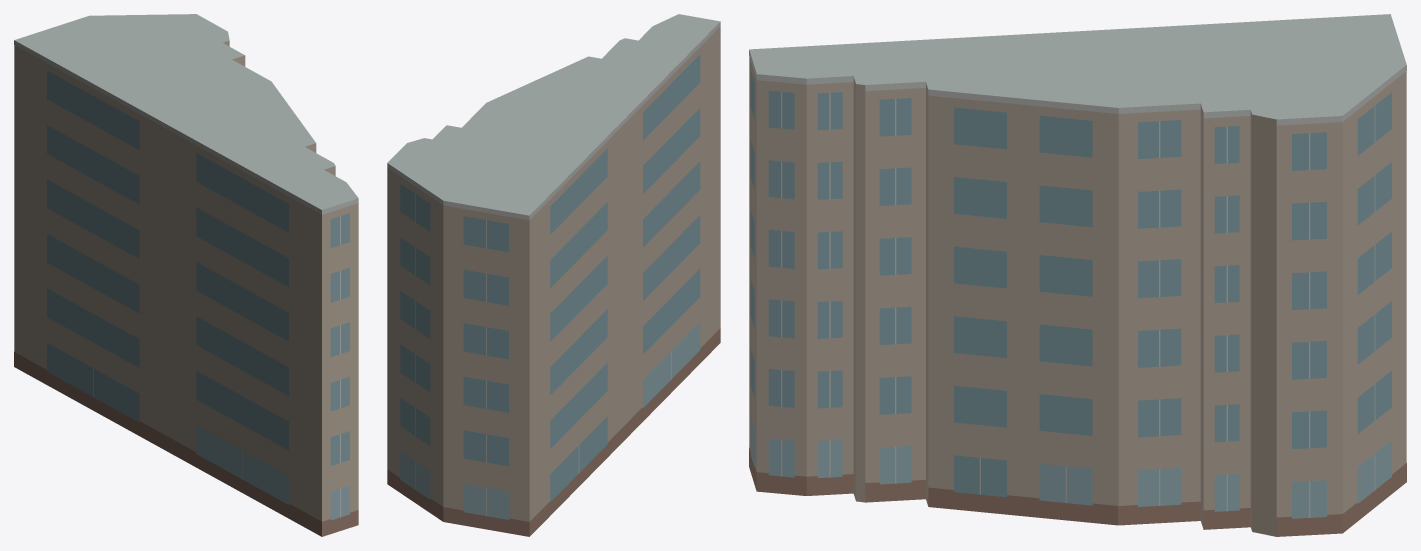
File: survey-upis-32531189.glb
The picture shows the model from 3 angles, left to right: view 1: azimuth 30°, elevation 25°; view 2: azimuth 150°, elevation 25°; view 3: azimuth 270°, elevation 25°; orthographic projection. The views are drawn at different scales.
Parts seen in each view (by area): view 1: survey-upis-32531189.tmp; view 2: survey-upis-32531189.tmp; view 3: survey-upis-32531189.tmp.
Boxes of the visible parts, bbox=[...] form: survey-upis-32531189.tmp: bbox=[14, 14, 358, 536]; survey-upis-32531189.tmp: bbox=[387, 14, 720, 536]; survey-upis-32531189.tmp: bbox=[749, 14, 1406, 536].
Bounding box in the file's own units: 9.08 × 16.75 × 23.93.
